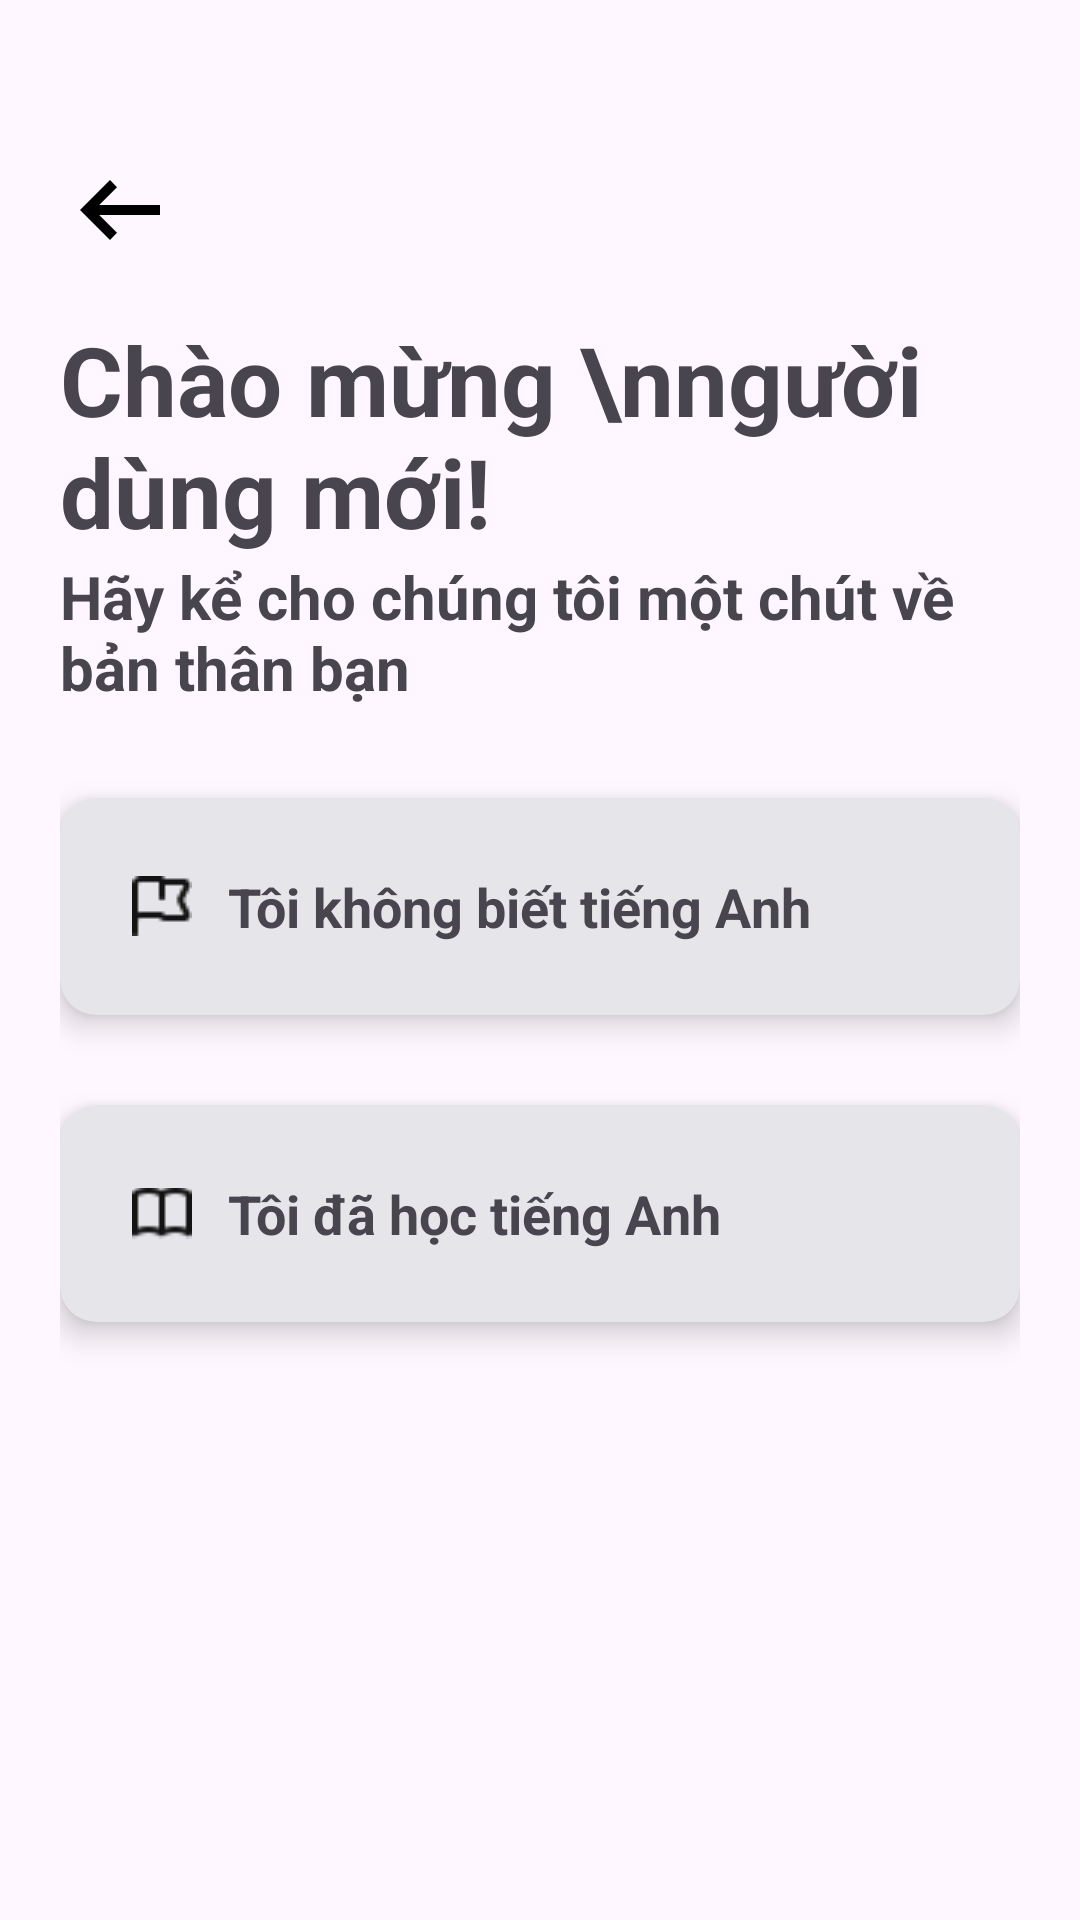

Named icons in this screenshot (1080 × 1920) and their centers, [x,y]:
arrow left: [120,210]
iconbook: [162,1213]
iconflag: [162,906]
